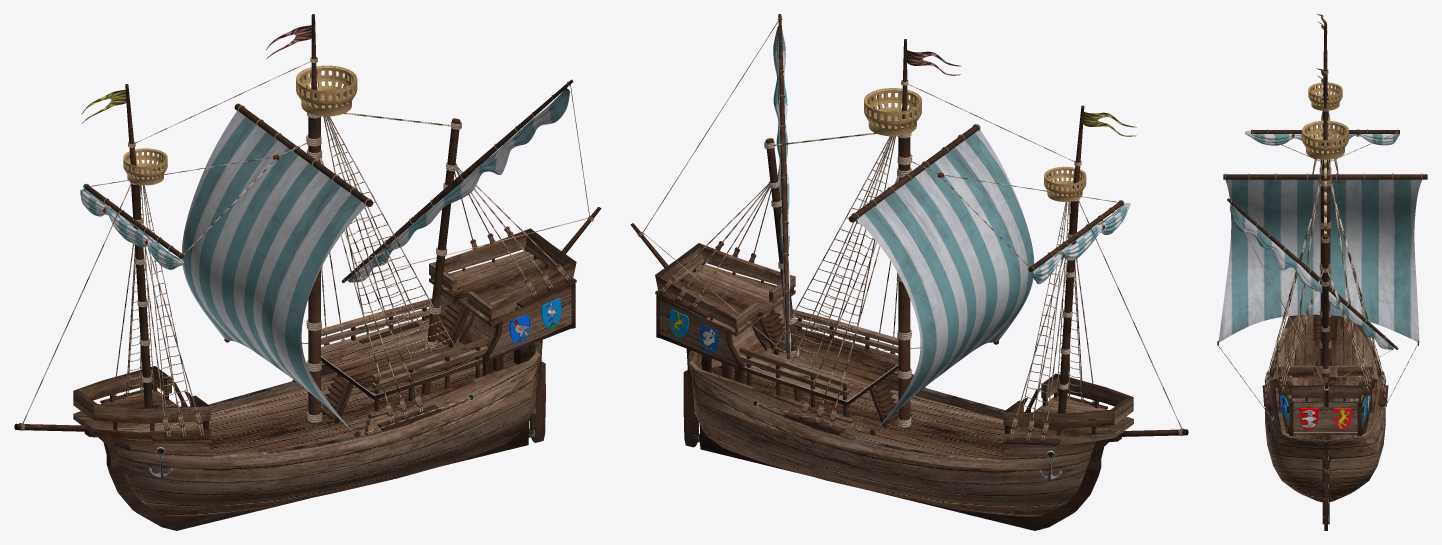
The model's file is charge-boat.glb.
3 renders of one model, left to right at view 1: azimuth 30°, elevation 25°; view 2: azimuth 150°, elevation 25°; view 3: azimuth 270°, elevation 25°, orthographic. The views are drawn at different scales.
Parts seen in each view (by area): view 1: Object_12, Object_20, Object_13, Object_10, Object_17, Object_16, Object_11, Object_19, Object_14, Object_18, Object_21; view 2: Object_12, Object_20, Object_13, Object_10, Object_16, Object_17, Object_11, Object_19, Object_14, Object_21, Object_18; view 3: Object_20, Object_12, Object_13, Object_16, Object_10, Object_19, Object_17, Object_14, Object_18, Object_3, Object_2, Object_15.
Part boxes in pixels (x1,y1,x2,y2): Object_12: (73, 105, 576, 530); Object_20: (182, 88, 570, 433); Object_13: (14, 14, 601, 467); Object_10: (114, 156, 576, 436); Object_17: (104, 206, 575, 442); Object_16: (103, 155, 566, 430); Object_11: (127, 177, 194, 425); Object_19: (80, 189, 183, 269); Object_14: (130, 112, 461, 422); Object_18: (123, 277, 573, 438); Object_21: (81, 25, 311, 123); Object_12: (655, 125, 1133, 530); Object_20: (773, 26, 1034, 430); Object_13: (630, 14, 1188, 470); Object_10: (655, 174, 1093, 440); Object_16: (665, 175, 1104, 435); Object_17: (656, 241, 1094, 447); Object_11: (1018, 194, 1082, 430); Object_19: (1031, 202, 1130, 283); Object_14: (764, 132, 1079, 427); Object_21: (906, 50, 1136, 136); Object_18: (658, 289, 1085, 442); Object_20: (1218, 179, 1421, 349); Object_12: (1265, 159, 1385, 524); Object_13: (1217, 22, 1427, 461); Object_16: (1264, 129, 1385, 391); Object_10: (1264, 159, 1386, 396); Object_19: (1245, 130, 1399, 145); Object_17: (1265, 129, 1385, 530); Object_14: (1319, 100, 1331, 373); Object_18: (1263, 314, 1387, 521); Object_3: (1333, 408, 1352, 429); Object_2: (1299, 408, 1318, 429); Object_15: (1225, 69, 1421, 390).
Bounding box in the file's own units: 13.36 × 10.5 × 5.39.
9 materials, 9 textured.
